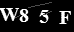5: (38, 9, 50, 24)
8: (18, 9, 29, 22)
F: (58, 10, 72, 24)
W: (1, 7, 19, 22)
